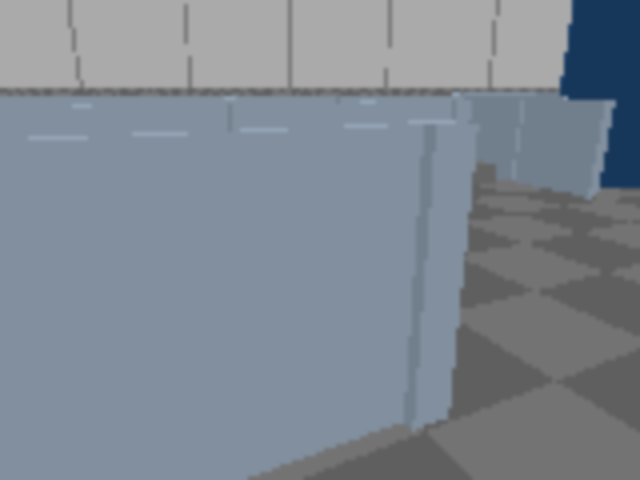obstacle: (456, 161, 496, 186)
